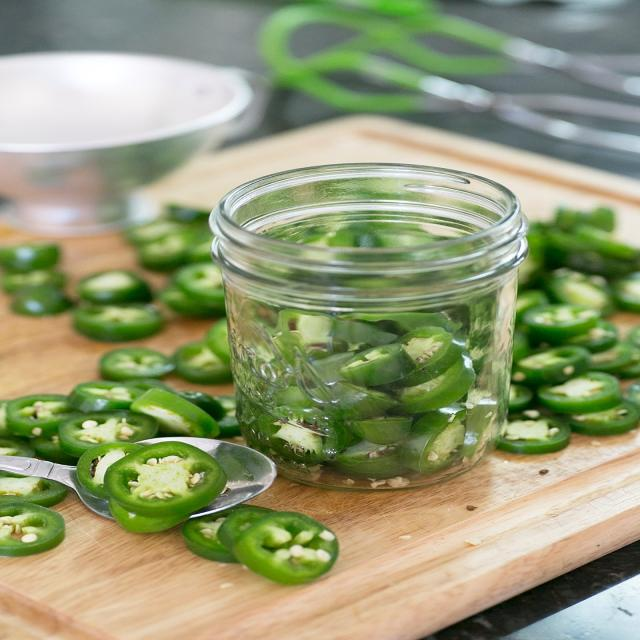Jalepeno: (0, 213, 207, 327), (220, 491, 363, 596), (527, 202, 633, 331), (516, 331, 636, 440), (90, 451, 223, 522)
